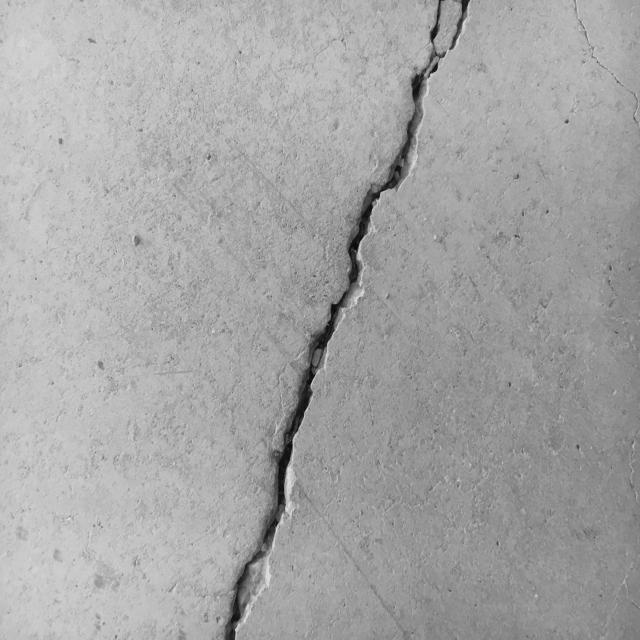SurfaceCrack: (193, 0, 493, 639)
